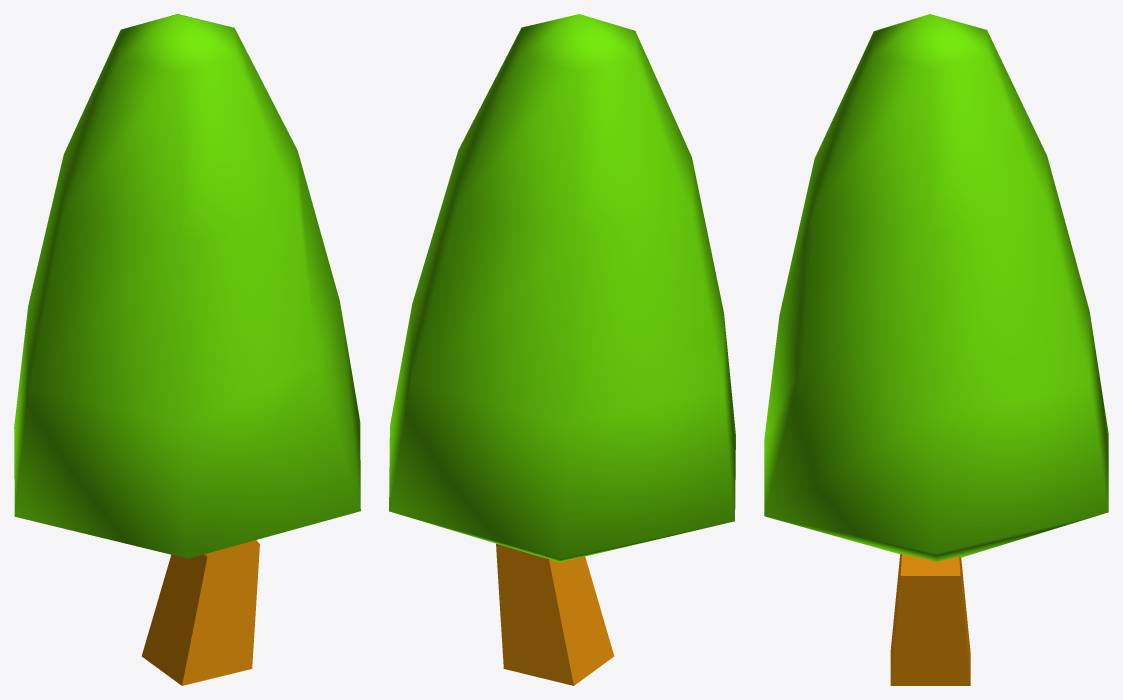
Rendered from Arbol2 1.fbx.
3 renders of one model, left to right at view 1: azimuth 30°, elevation 25°; view 2: azimuth 150°, elevation 25°; view 3: azimuth 270°, elevation 25°, orthographic.
Visible parts, largest first — view 1: pCube2; view 2: pCube2; view 3: pCube2.
Part boxes in pixels (x1,y1,x2,y2): pCube2: (14, 14, 360, 685); pCube2: (389, 14, 735, 685); pCube2: (764, 14, 1108, 685).
Bounding box in the file's own units: 0.5311 × 0.9603 × 0.4645.
